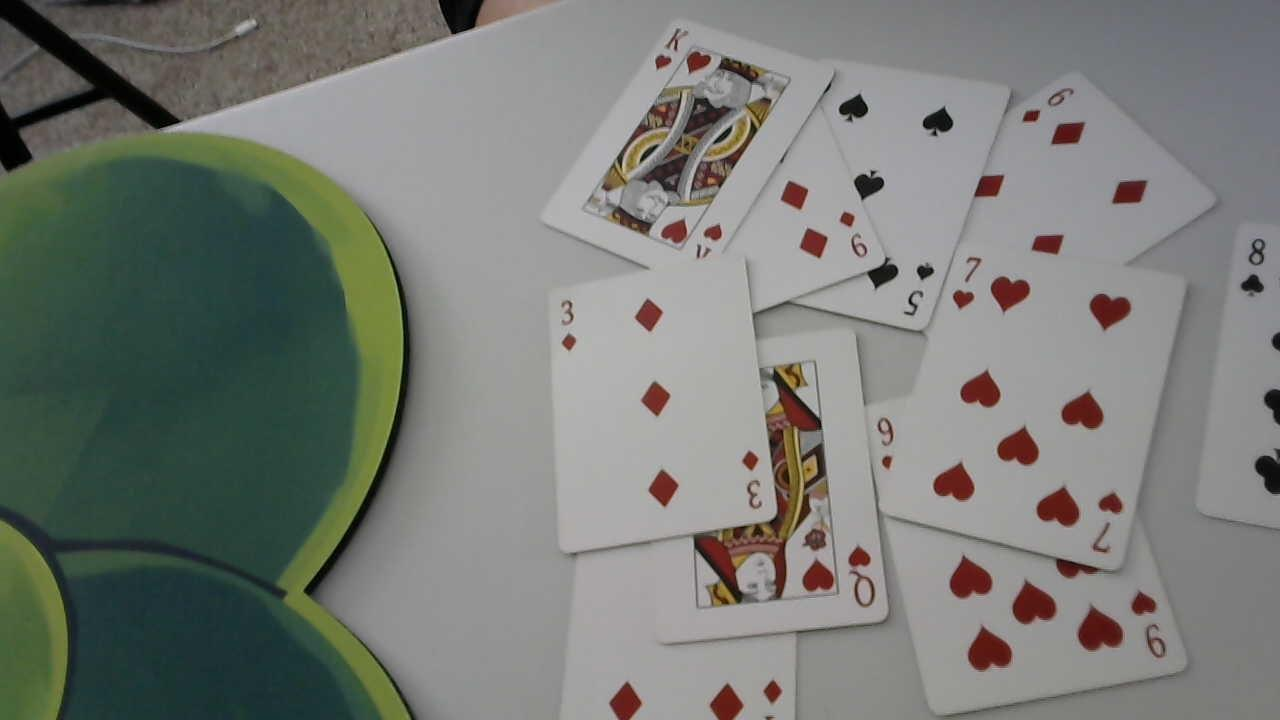3D: (737, 446, 766, 512), (551, 298, 581, 357)
5S: (901, 255, 940, 323)
6D: (1018, 80, 1081, 127)
7H: (1088, 486, 1124, 555), (951, 250, 984, 314)
8C: (1235, 234, 1274, 305)
9D: (834, 203, 873, 265)
9H: (1125, 581, 1170, 661)
KH: (650, 21, 690, 71)
QH: (838, 542, 880, 610)
